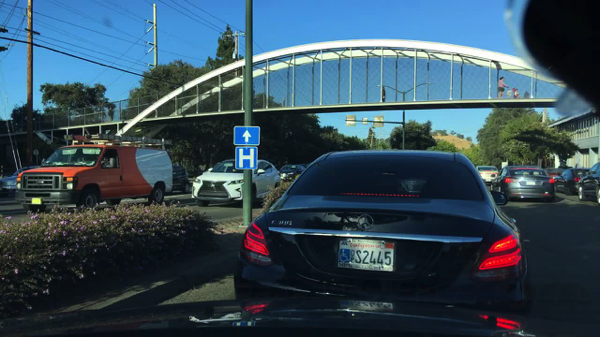car: (233, 150, 526, 319), (15, 136, 173, 220), (191, 159, 280, 207), (490, 165, 554, 202), (0, 164, 40, 196), (553, 167, 591, 196), (576, 162, 599, 204), (172, 164, 190, 193), (278, 164, 305, 182), (476, 166, 498, 185), (543, 167, 566, 181), (507, 86, 521, 99), (300, 164, 309, 168)
person: (497, 76, 508, 98), (107, 107, 115, 122), (381, 86, 385, 103), (513, 89, 519, 95)
traffic sign: (233, 125, 260, 146), (235, 146, 257, 170), (373, 116, 383, 127), (346, 115, 355, 125), (500, 162, 507, 170), (64, 135, 73, 140), (361, 118, 367, 125), (33, 149, 39, 155)
